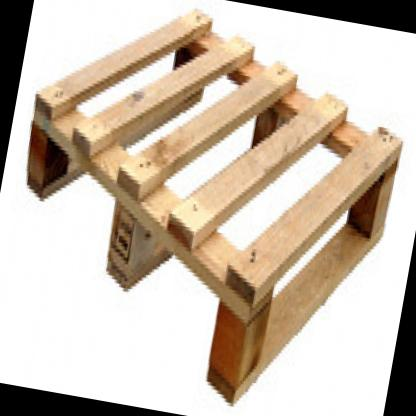BoxFace: (23, 10, 405, 409)
